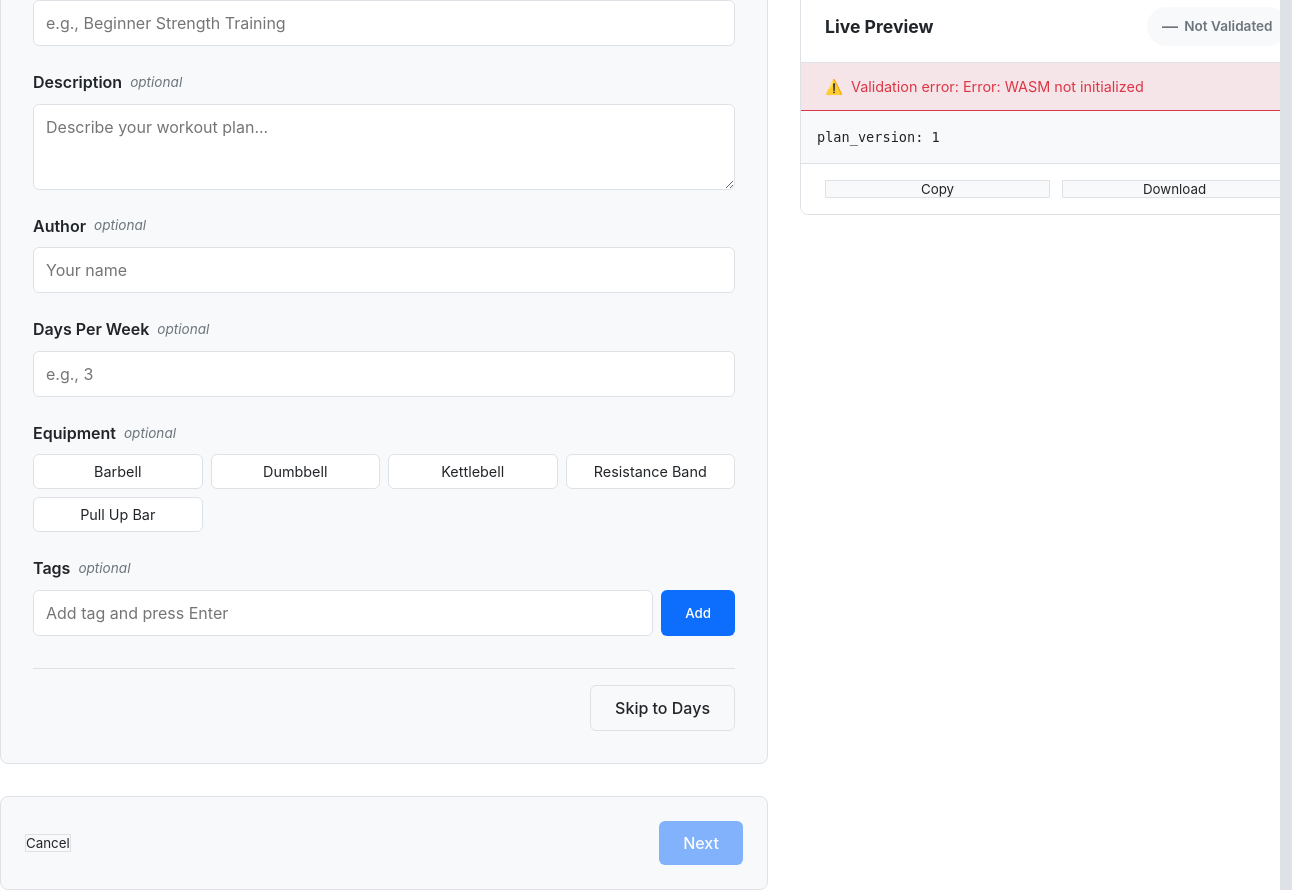
BuilderWizard › Reactive Behavior › should react to currentStep changes
(page scrolled)
Expected: the text "Back" is not shown
Step 1. Click the button "Next" → click(701, 843), box [659,821,743,865]
(page scrolled)
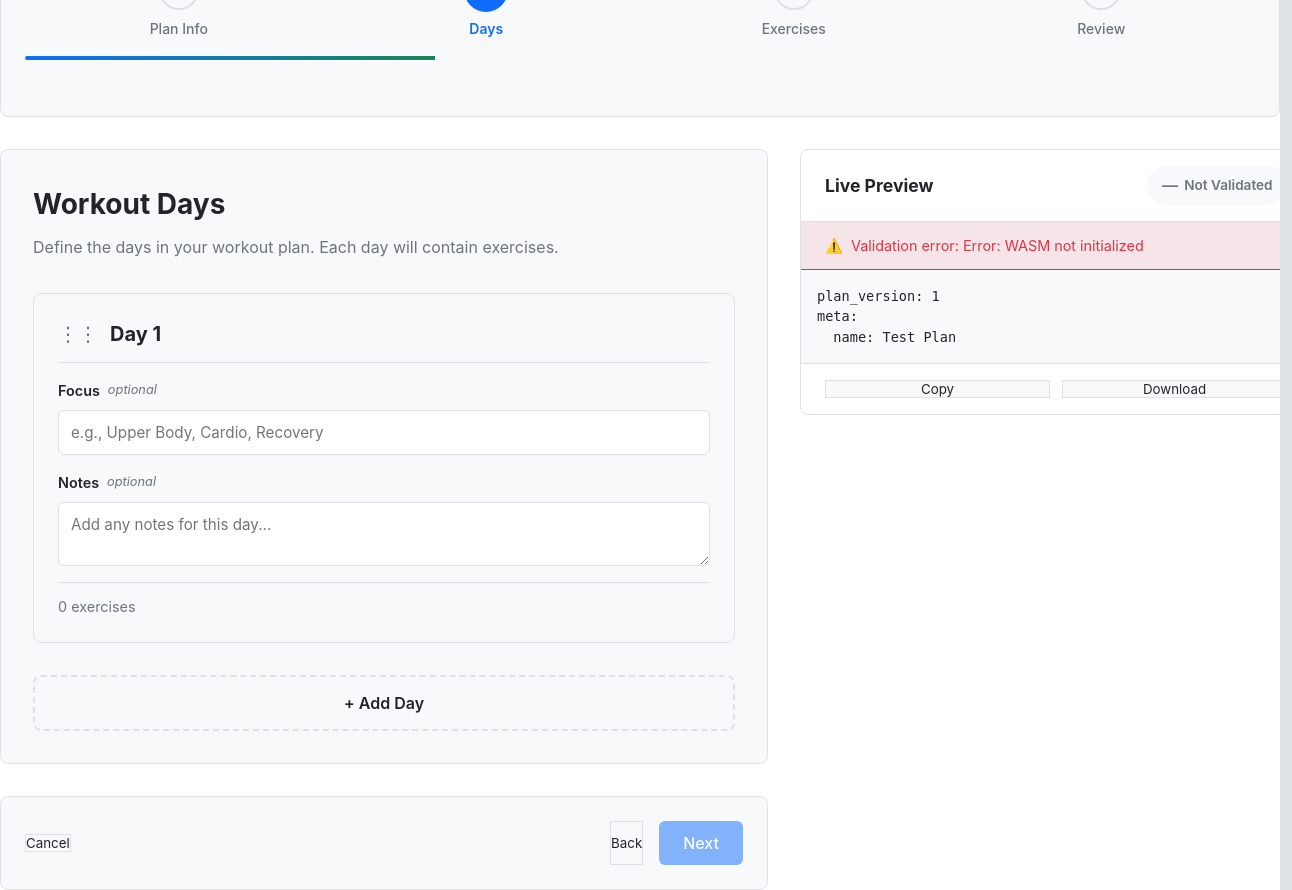
Now the button "Back" is shown, box [610,821,643,865]
